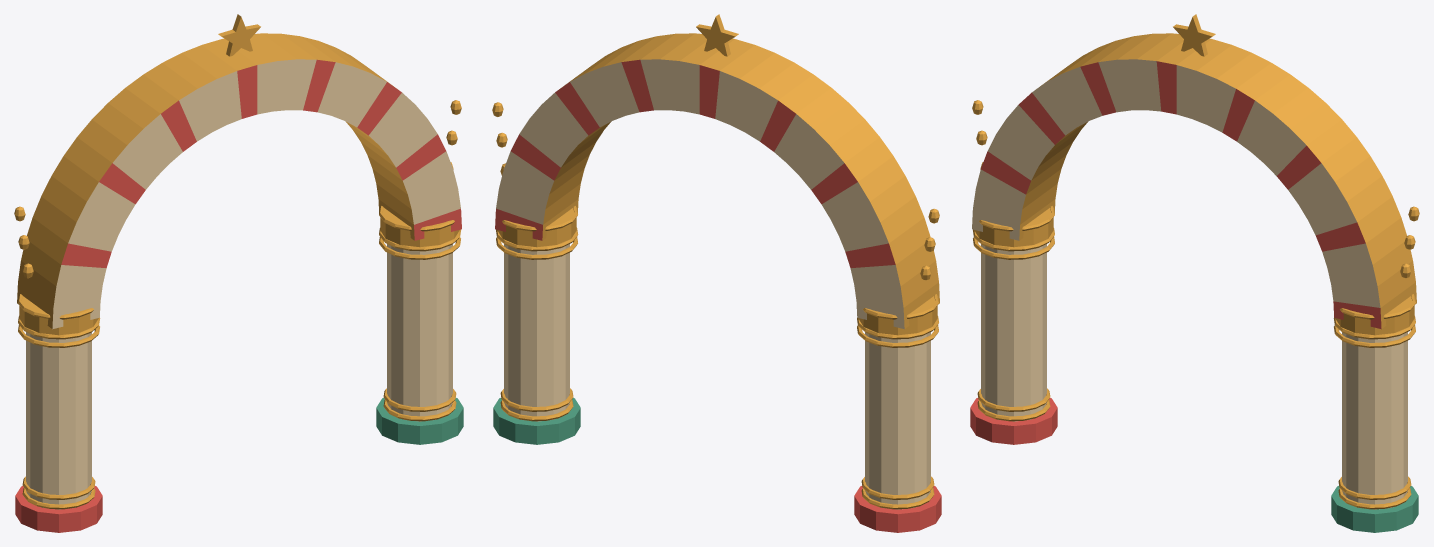
File: ParkParkStorybookEntrance.obj
3 views of the same model, side by side, from view 1: azimuth 30°, elevation 25°; view 2: azimuth 150°, elevation 25°; view 3: azimuth 330°, elevation 25° (orthographic).
Visible parts, largest first — view 1: ParkParkStorybookEntrance; view 2: ParkParkStorybookEntrance; view 3: ParkParkStorybookEntrance.
Boxes of the visible parts, x1,y1,x2,y2 form: ParkParkStorybookEntrance: (14,14,463,532); ParkParkStorybookEntrance: (492,14,941,532); ParkParkStorybookEntrance: (970,14,1419,532).
Bounding box in the file's own units: 17.44 × 16.99 × 2.96.
Materials: 4 (4 with a texture image).
